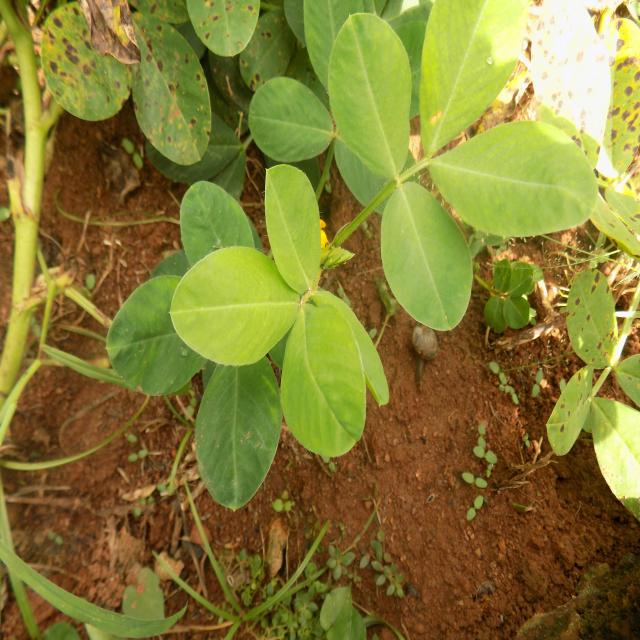Ground nut_healthy: (434, 113, 596, 239), (326, 8, 418, 175), (176, 247, 306, 365), (378, 172, 468, 330)
Ground nut_tikka leaf spot: (124, 9, 216, 168), (563, 269, 627, 373)
